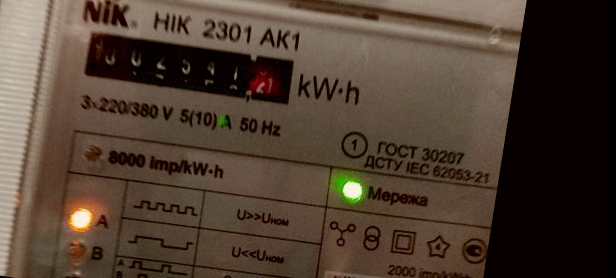0: (99, 38, 121, 67), (127, 40, 145, 69)
1: (226, 53, 243, 82)
2: (151, 44, 170, 71)
4: (203, 51, 219, 75)
5: (175, 46, 197, 77)
6: (251, 74, 269, 94)
screen: (70, 13, 311, 119)
